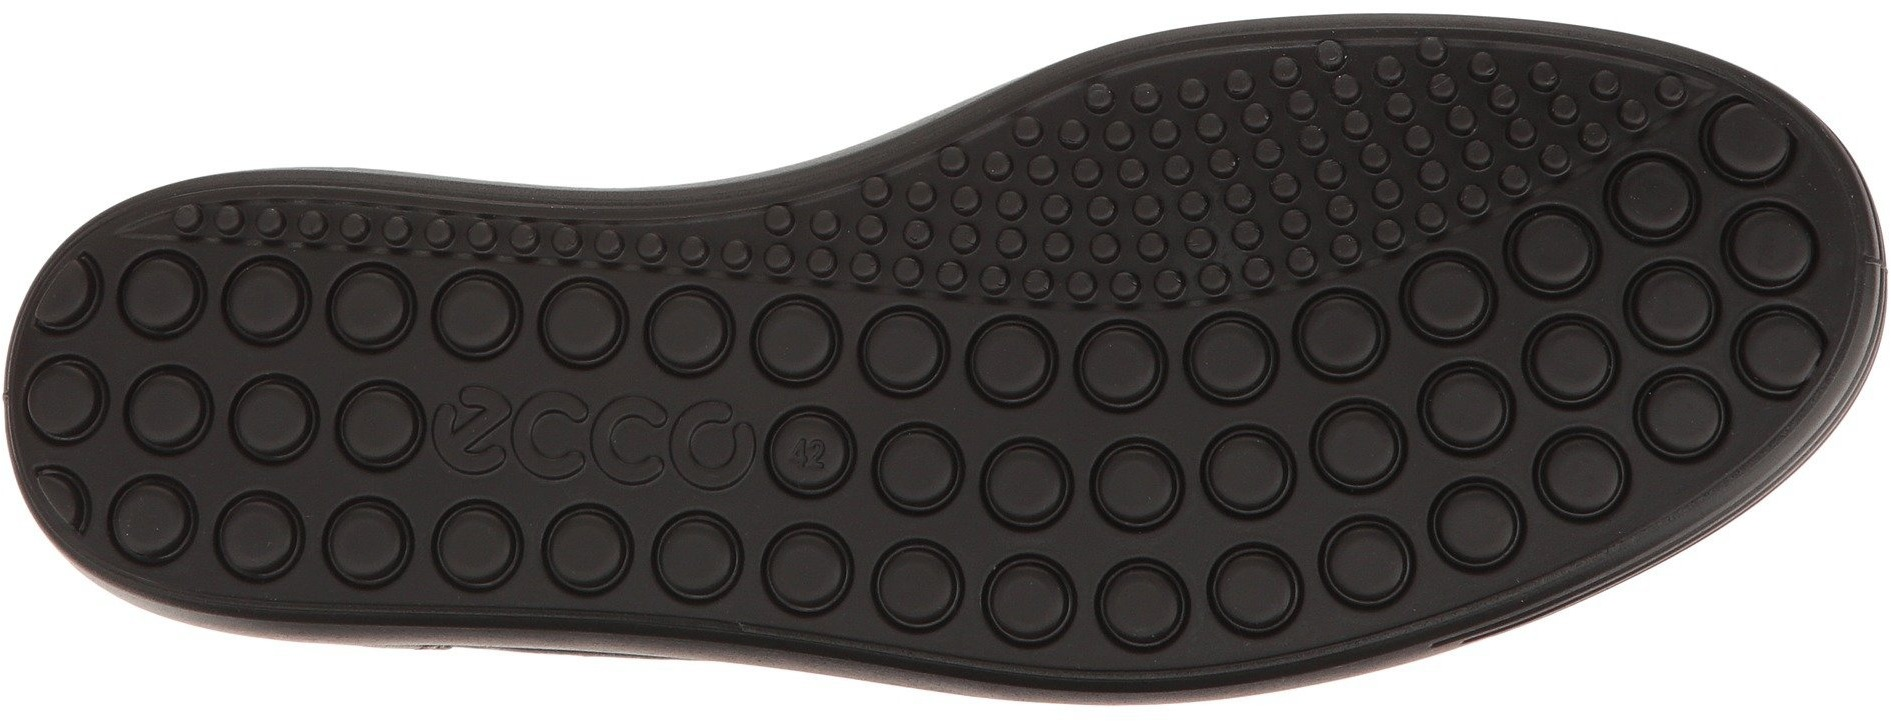circle: (68, 238, 404, 558), (1138, 320, 1458, 608), (1469, 209, 1749, 486), (863, 306, 1112, 545), (1207, 57, 1459, 292), (972, 110, 1204, 316), (415, 303, 595, 504), (591, 381, 759, 590), (596, 379, 780, 561), (472, 475, 657, 615), (473, 210, 642, 356), (1463, 59, 1608, 190), (822, 180, 935, 291), (765, 391, 863, 510)
text: (415, 303, 595, 504), (591, 381, 759, 590), (596, 379, 780, 561), (445, 360, 574, 475), (608, 364, 734, 476), (765, 391, 863, 510)
